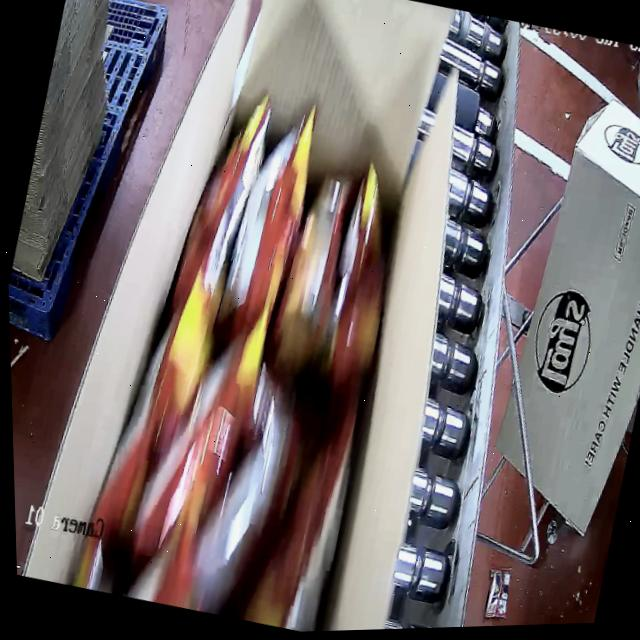MASALA: (58, 64, 437, 638)
